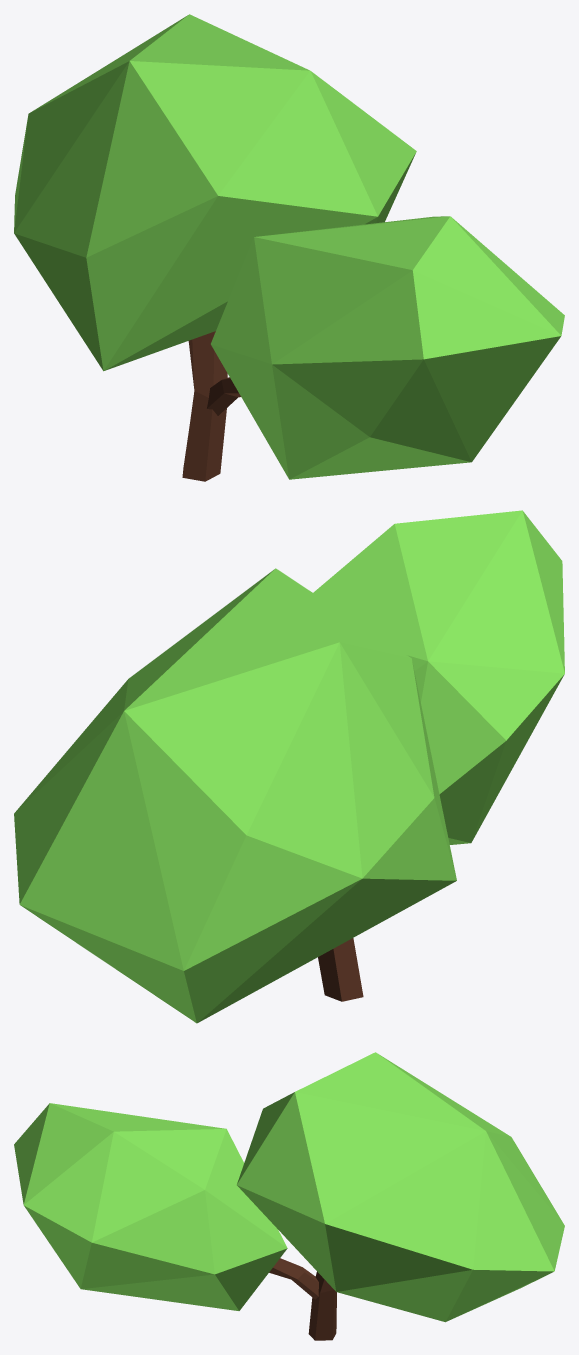
File: Shrub_01.fbx
3 renders of one model, top to bottom at view 1: azimuth 30°, elevation 25°; view 2: azimuth 150°, elevation 25°; view 3: azimuth 270°, elevation 25°, orthographic. The views are drawn at different scales.
Visible parts, largest first — view 1: Shrub_01; view 2: Shrub_01; view 3: Shrub_01.
Boxes of the visible parts, x1,y1,x2,y2 form: Shrub_01: [14, 14, 564, 481]; Shrub_01: [14, 510, 564, 1023]; Shrub_01: [14, 1052, 564, 1340].
Size of the model in its own units: 142 by 161 by 293.
